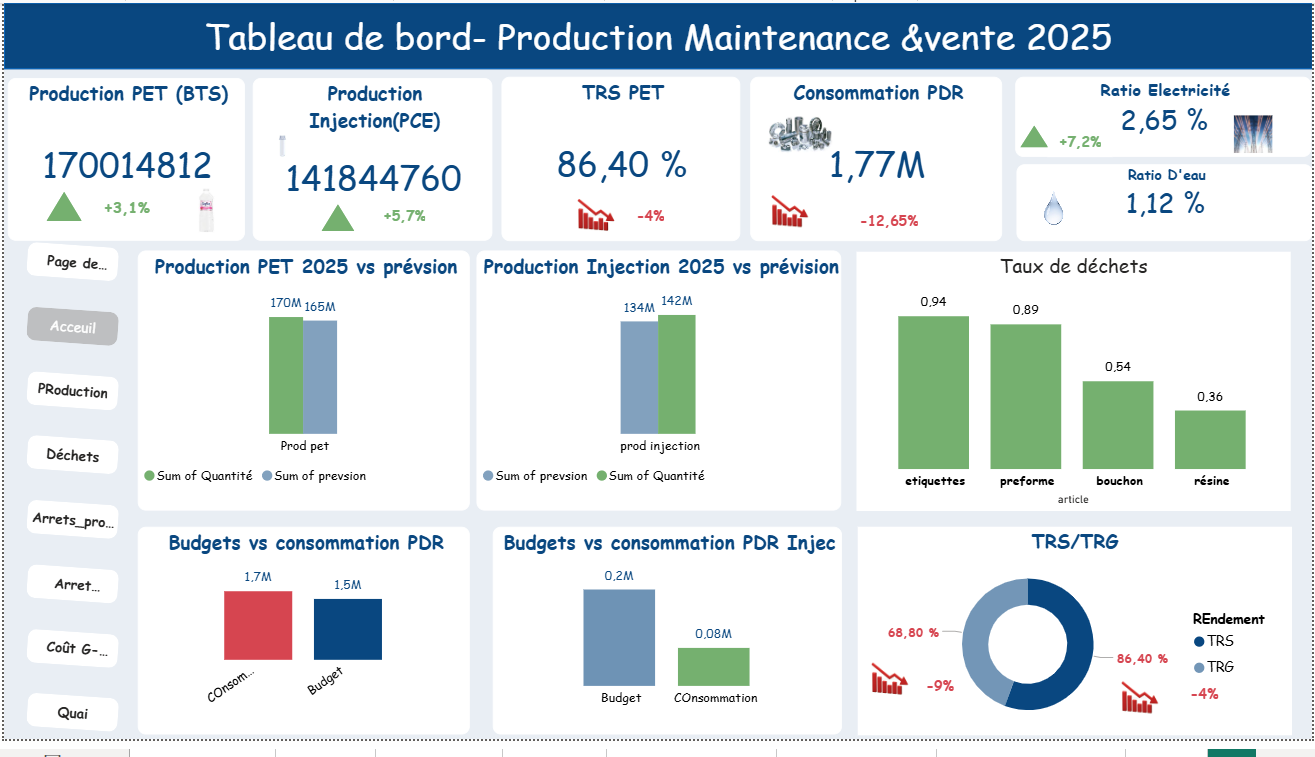

The dashboard page shown, as its layout file describes it:
{"tool":"powerbi","page":{"name":"Acceuil","canvas":[1280,720],"ordinal":1},"visuals":[{"type":"shape","box":[137.4,380.3,28.8,11.9],"z":0},{"type":"shape","box":[0,0,1280.3,64.8],"z":2000},{"type":"pageNavigator","box":[3.7,233.6,127.2,481.8],"z":3000},{"type":"card","title":"Production PET (BTS)","fields":{"Values":["Sum(Prod pet (2).Production PET )"]},"box":[3.6,73.8,232.1,159.5],"z":4000},{"type":"shape","box":[41.7,184.5,34.5,28.6],"z":5000},{"type":"textbox","box":[84.5,184.5,71.4,36.9],"z":6000},{"type":"card","title":"Production Injection(PCE)","fields":{"Values":["Sum(Prod_Inj.Production Injection )"]},"box":[242.9,73.8,234.5,159.5],"z":7000},{"type":"shape","box":[360.7,191.7,61.9,31],"z":8000},{"type":"card","title":" TRS PET","fields":{"Values":["Sum(Rendement PET.Rendment TRS)"]},"box":[486.9,72.6,233.3,160.7],"z":9000},{"type":"shape","box":[603.6,191.7,56,31],"z":10000},{"type":"card","title":"Consommation PDR","fields":{"Values":["Sum(CONS PDR.CONS PDR)"]},"box":[729.8,72.6,246.4,160.7],"z":11000},{"type":"shape","box":[834.5,196.4,63.1,31],"z":12000},{"type":"card","title":"Ratio Electricité","fields":{"Values":["Sum(Ratio elec.Ratio elect)"]},"box":[989.3,72.6,289.3,78.6],"z":13000},{"type":"card","title":"Ratio D''eau","fields":{"Values":["Sum(Ratio d'eau.Ration d'eau)"]},"box":[990.5,158.3,289.3,75],"z":14000},{"type":"shape","box":[994,120.2,27.4,21.4],"z":15000},{"type":"shape","box":[1021.4,120.2,63.1,31],"z":16000},{"type":"clusteredColumnChart","title":"Production PET 2025 vs prévsion ","fields":{"Category":["Prod pet.Performance "],"Y":["Sum(Prod pet.Quantité )","Sum(Prod pet.prevsion )"]},"box":[131,241.7,325,254.8],"z":17000},{"type":"clusteredColumnChart","title":"Production Injection 2025 vs prévision","fields":{"Category":["Prod pet.Performance "],"Y":["Sum(Prod pet.prevsion )","Sum(Prod pet.Quantité )"]},"box":[461.9,241.7,357.1,254.8],"z":18000},{"type":"clusteredColumnChart","title":"Budgets vs consommation PDR","fields":{"Category":["PDR CLASSE 33.consommation PDR "],"Y":["Sum(PDR CLASSE 33.PET)"]},"box":[131,511.9,325,203.6],"z":19000},{"type":"clusteredColumnChart","title":"Budgets vs consommation PDR Injec","fields":{"Category":["PDR CLASSE 33.consommation PDR "],"Y":["Sum(PDR CLASSE 33.Injection)"]},"box":[477.5,511.8,341.7,203.1],"z":20000},{"type":"clusteredColumnChart","title":" Taux de déchets ","fields":{"Category":["DECHET.article"],"Y":["Sum(DECHET.valeurs)"]},"box":[834.5,242.9,425,253.6],"z":21000},{"type":"donutChart","title":"TRS/TRG","fields":{"Y":["Sum(TRS_TRG.Annuelle)"],"Category":["TRS_TRG.REndement"]},"box":[835,512,425,204],"z":22000},{"type":"shape","box":[891.4,651.8,47.7,30.6],"z":23000},{"type":"shape","box":[1150,660.7,48.8,31],"z":24000},{"type":"image","box":[1198.8,104.8,47.6,46.4],"z":25000},{"type":"image","box":[994,175,65.5,51.2],"z":26000},{"type":"image","box":[166,175.6,64.5,53.5],"z":27000},{"type":"image","box":[252.5,122.1,41.2,35.7],"z":28000},{"type":"image","box":[741.7,106,72.6,47.6],"z":29000},{"type":"image","box":[741.7,176.2,51.2,54.8],"z":30000},{"type":"image","box":[552.4,179.8,51.2,54.8],"z":31000},{"type":"image","box":[840.5,633.3,51.2,54.8],"z":32000},{"type":"image","box":[1084.5,652.4,51.2,54.8],"z":33000},{"type":"shape","box":[310.7,196.4,32.1,26.2],"z":34000}]}

Visuals, with their boxes in screenshot pixels (x1, y1, x2, y2), scaled from the page's 1280x720 canvas onto the 1315x757 screenshot:
shape: l=141, t=400, r=171, b=412
shape: l=0, t=0, r=1314, b=68
pageNavigator: l=4, t=246, r=134, b=752
"Production PET (BTS)" card: l=4, t=78, r=242, b=245
shape: l=43, t=194, r=78, b=224
textbox: l=87, t=194, r=160, b=233
"Production Injection(PCE)" card: l=250, t=78, r=490, b=245
shape: l=371, t=202, r=434, b=234
" TRS PET" card: l=500, t=76, r=740, b=245
shape: l=620, t=202, r=678, b=234
"Consommation PDR" card: l=750, t=76, r=1003, b=245
shape: l=857, t=206, r=922, b=239
"Ratio Electricité" card: l=1016, t=76, r=1314, b=159
"Ratio D''eau" card: l=1018, t=166, r=1314, b=245
shape: l=1021, t=126, r=1049, b=149
shape: l=1049, t=126, r=1114, b=159
"Production PET 2025 vs prévsion " clusteredColumnChart: l=135, t=254, r=468, b=522
"Production Injection 2025 vs prévision" clusteredColumnChart: l=475, t=254, r=841, b=522
"Budgets vs consommation PDR" clusteredColumnChart: l=135, t=538, r=468, b=752
"Budgets vs consommation PDR Injec" clusteredColumnChart: l=491, t=538, r=842, b=752
" Taux de déchets " clusteredColumnChart: l=857, t=255, r=1294, b=522
"TRS/TRG" donutChart: l=858, t=538, r=1294, b=753
shape: l=916, t=685, r=965, b=717
shape: l=1181, t=695, r=1232, b=727
image: l=1232, t=110, r=1280, b=159
image: l=1021, t=184, r=1088, b=238
image: l=171, t=185, r=237, b=241
image: l=259, t=128, r=302, b=166
image: l=762, t=111, r=837, b=161
image: l=762, t=185, r=815, b=243
image: l=568, t=189, r=620, b=247
image: l=863, t=666, r=916, b=723
image: l=1114, t=686, r=1167, b=744
shape: l=319, t=206, r=352, b=234
